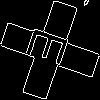E: (25, 25, 79, 71)
